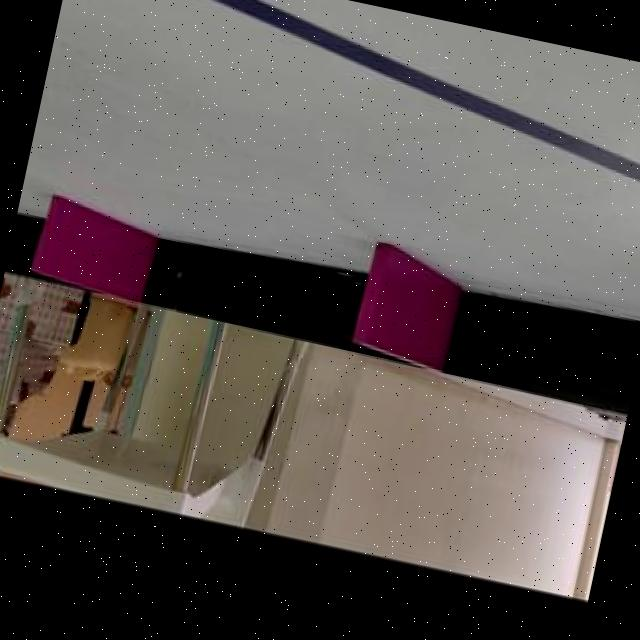xparking: (353, 242, 462, 360), (36, 194, 150, 294)
